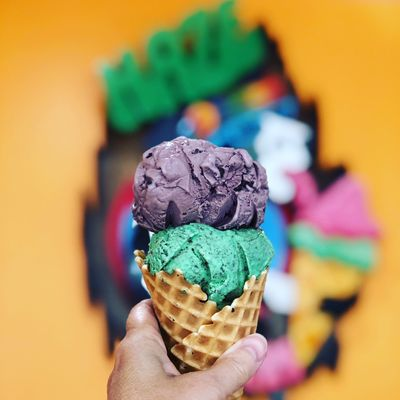sushi: (130, 138, 276, 381)
